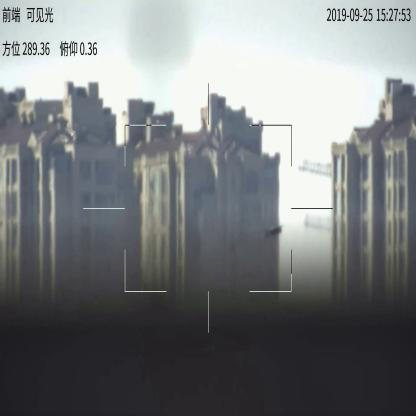uav: (266, 226, 284, 237)
